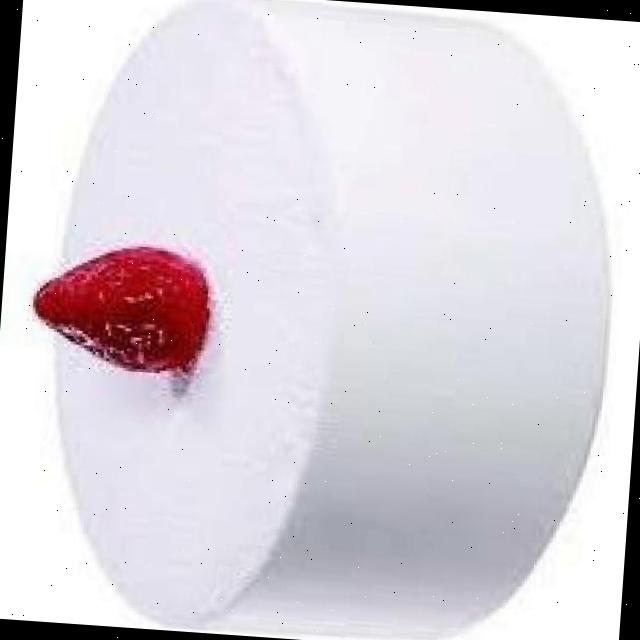strawberry: (28, 239, 212, 377)
